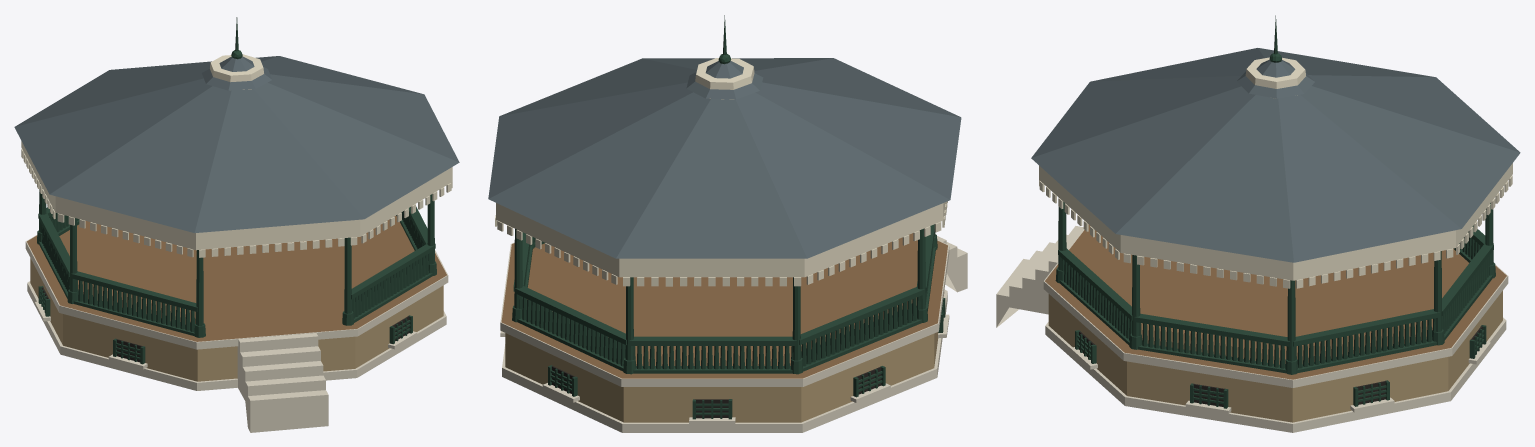
The model's file is hyde_park_bandstand.glb.
3 views of the same model, side by side, from view 1: azimuth 30°, elevation 25°; view 2: azimuth 150°, elevation 25°; view 3: azimuth 270°, elevation 25° (orthographic). The views are drawn at different scales.
Bounding box in the file's own units: 12.46 × 9.38 × 13.34.
